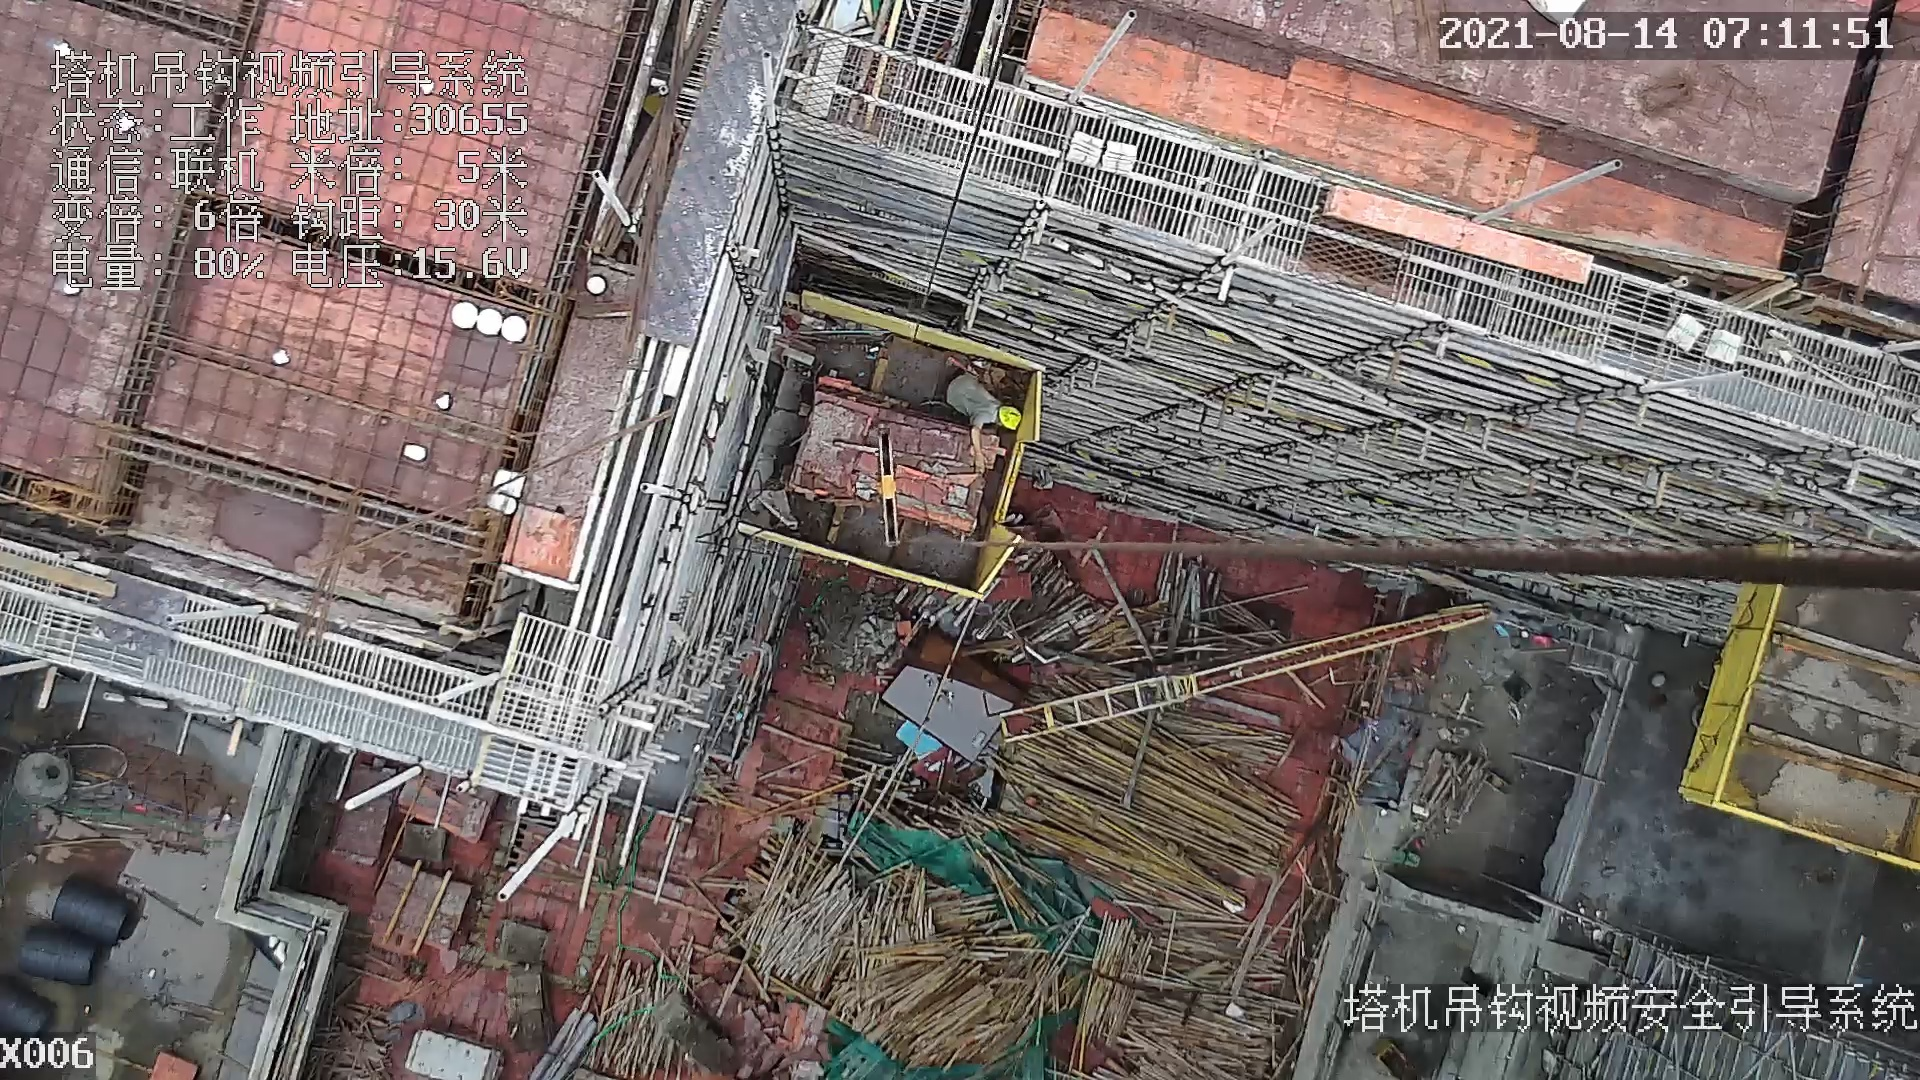helmet: (995, 396, 1028, 438)
hook: (865, 424, 912, 545)
person: (945, 358, 1023, 481)
